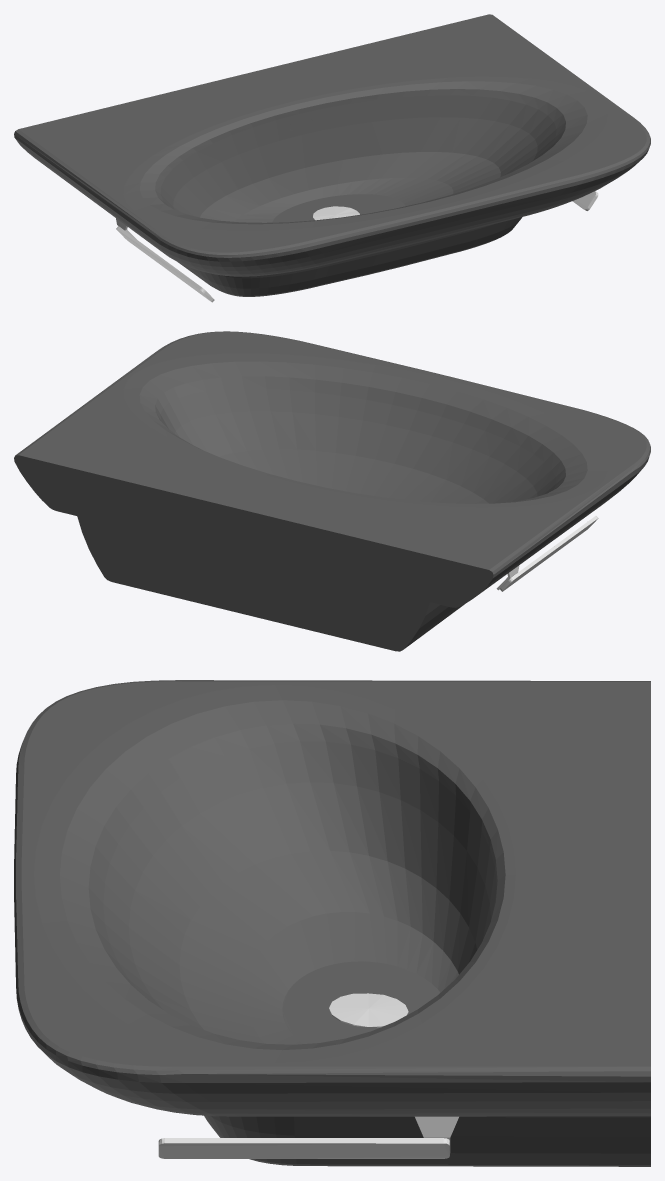
The model's file is AEC_43533.glb.
The picture shows the model from 3 angles, top to bottom: view 1: azimuth 30°, elevation 25°; view 2: azimuth 150°, elevation 25°; view 3: azimuth 270°, elevation 25°; orthographic projection. The views are drawn at different scales.
Parts seen in each view (by area): view 1: 0; view 2: 0; view 3: 0.
Part boxes in pixels (bbox=[...]): 0: bbox=[14, 14, 650, 302]; 0: bbox=[14, 331, 650, 651]; 0: bbox=[14, 680, 650, 1166].
Bounding box in the file's own units: 0.7 × 0.145 × 0.48.
1 material, 1 textured.
